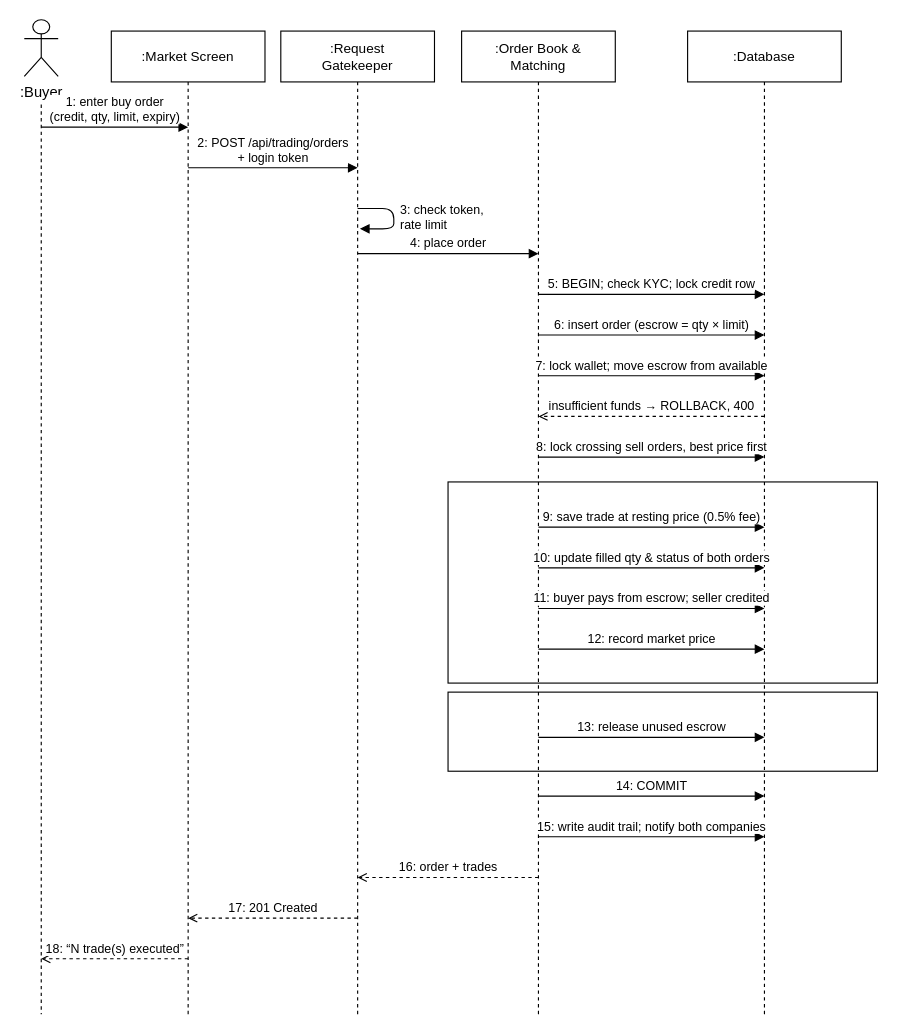
The diagram is 897 pixels wide and 1035 high, and some of its shapes have lost their labels. The shapes that lost their labels are listed below. From the top down, each one's centre as x and y in pixels, then its label:
At pixel 662 582: "loop [quantity left and prices cross]".
At pixel 662 731: "opt [order filled at a better price]".
